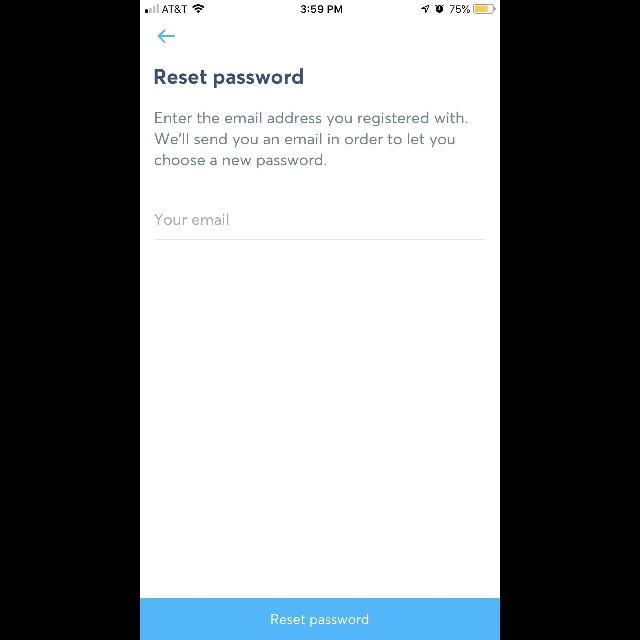icon: (158, 29, 175, 43)
input: (154, 214, 486, 240)
text: (154, 112, 468, 168), (155, 68, 303, 88), (155, 214, 229, 226)
textbutton: (140, 598, 500, 640)
uppertaskbar: (140, 0, 500, 14)
